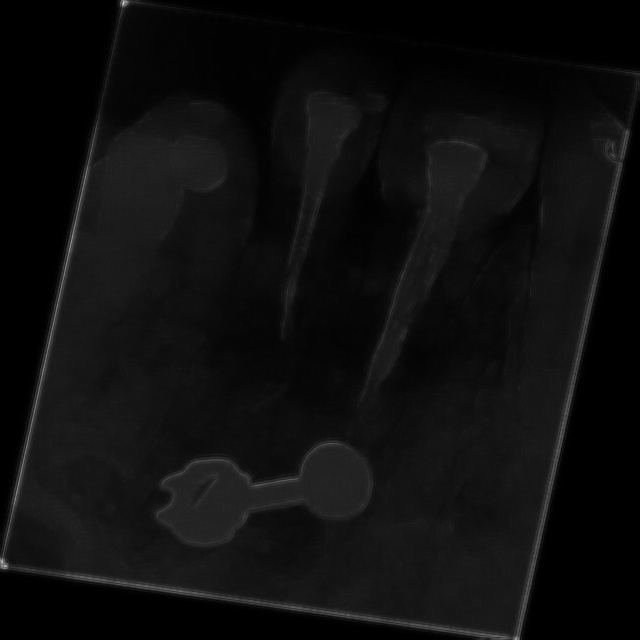Class 2- incomplete endodontic treatment: (252, 33, 577, 526), (155, 35, 418, 458)
